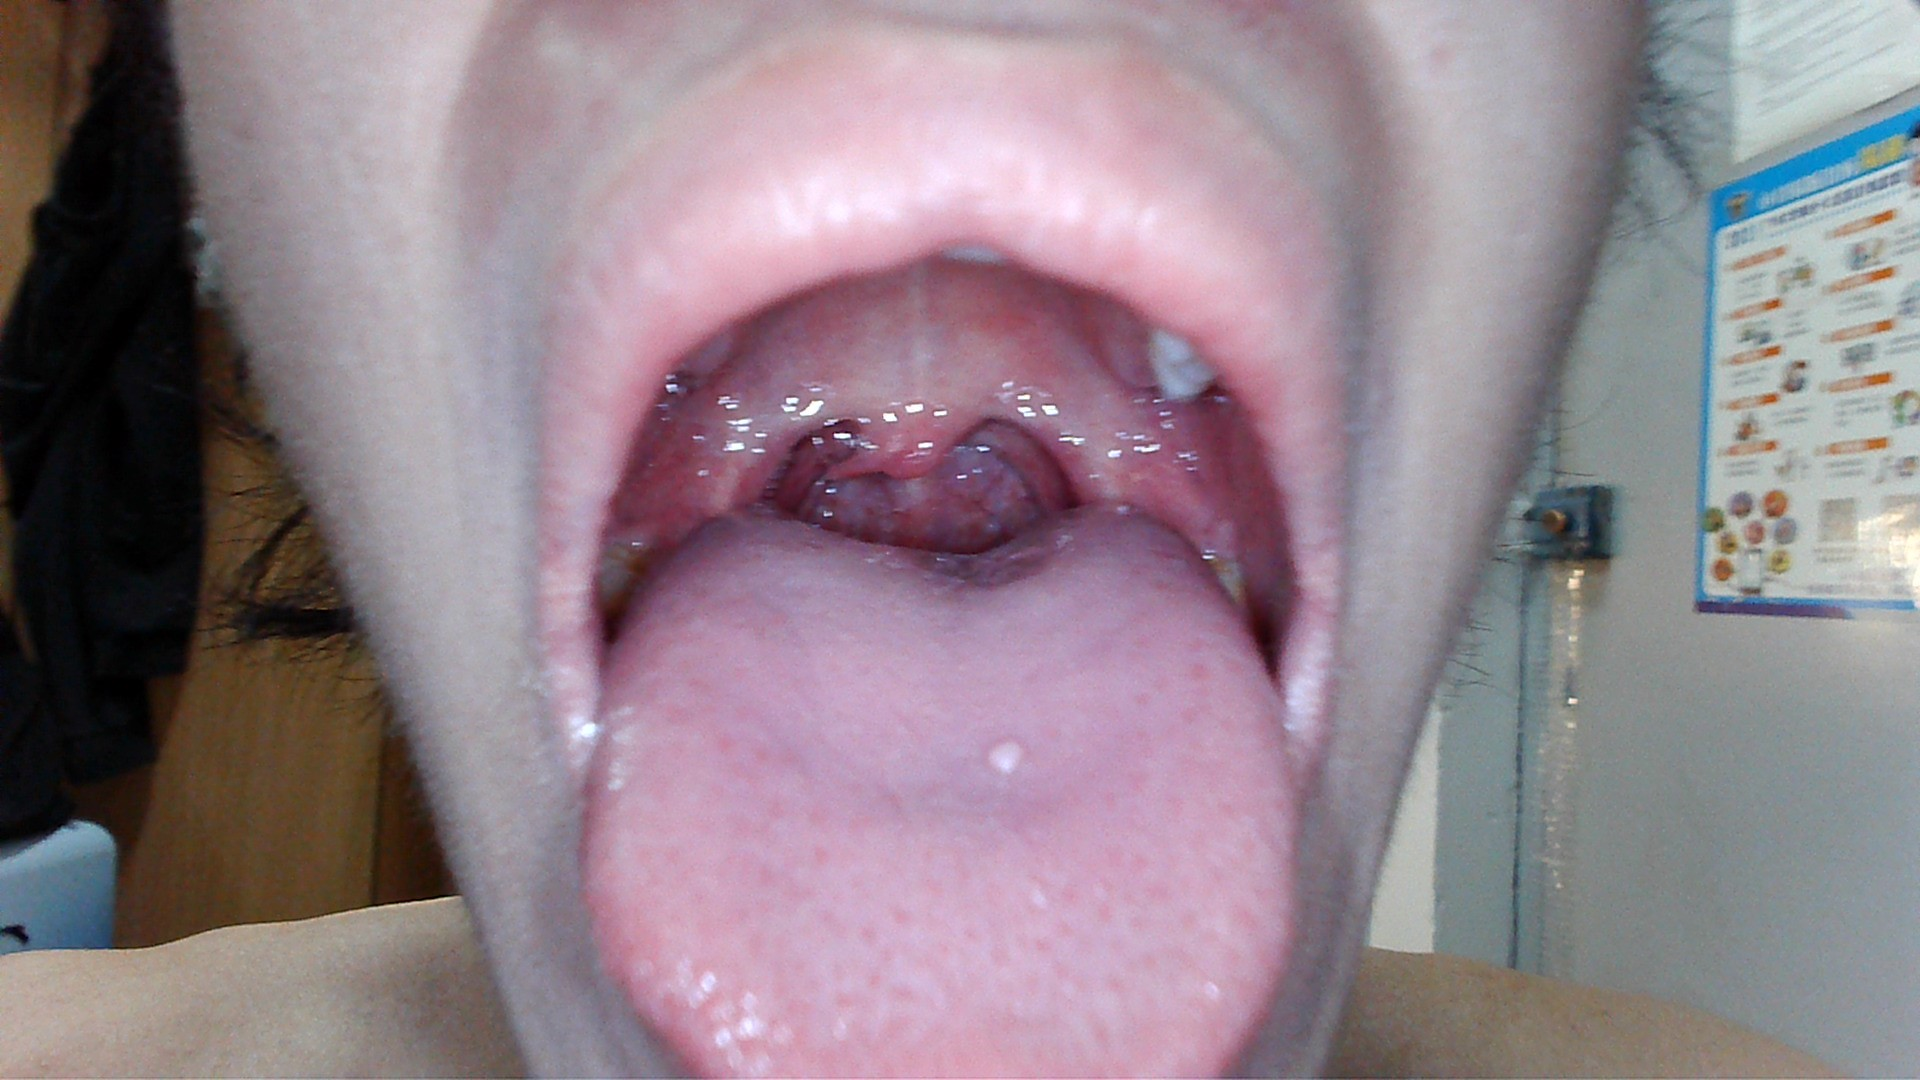throat: (1002, 360, 1106, 500), (705, 396, 814, 512)
